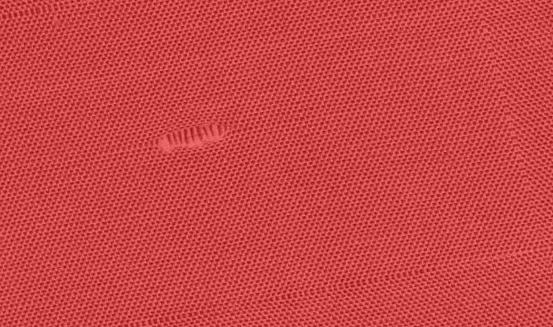slub: (153, 120, 239, 155)
